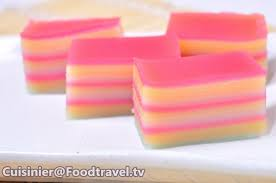kanomchan: (129, 48, 273, 153), (60, 29, 201, 126), (16, 12, 130, 98), (163, 7, 276, 92)
